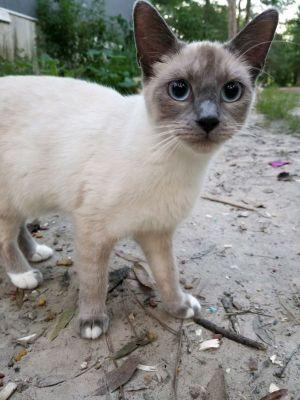siamese: (127, 1, 286, 167)
